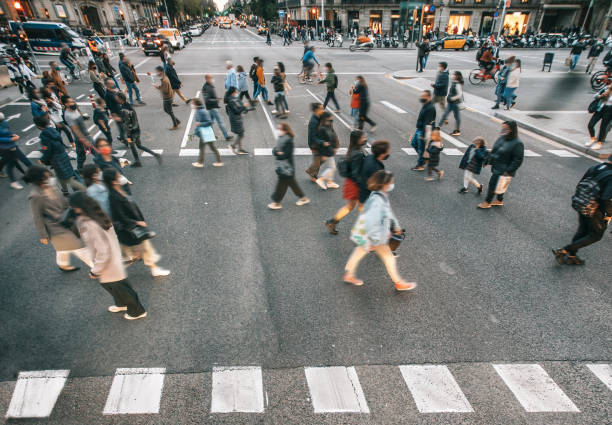with mask: (489, 107, 522, 147), (372, 168, 404, 203), (264, 113, 293, 137), (33, 167, 56, 197), (92, 134, 114, 163), (64, 90, 86, 119), (185, 99, 209, 124), (414, 80, 433, 111), (110, 168, 130, 191), (83, 159, 103, 182), (466, 136, 485, 157), (352, 66, 367, 91), (448, 65, 463, 90), (199, 69, 217, 89), (434, 57, 455, 73), (223, 82, 241, 100), (319, 60, 334, 74), (164, 55, 178, 69)
